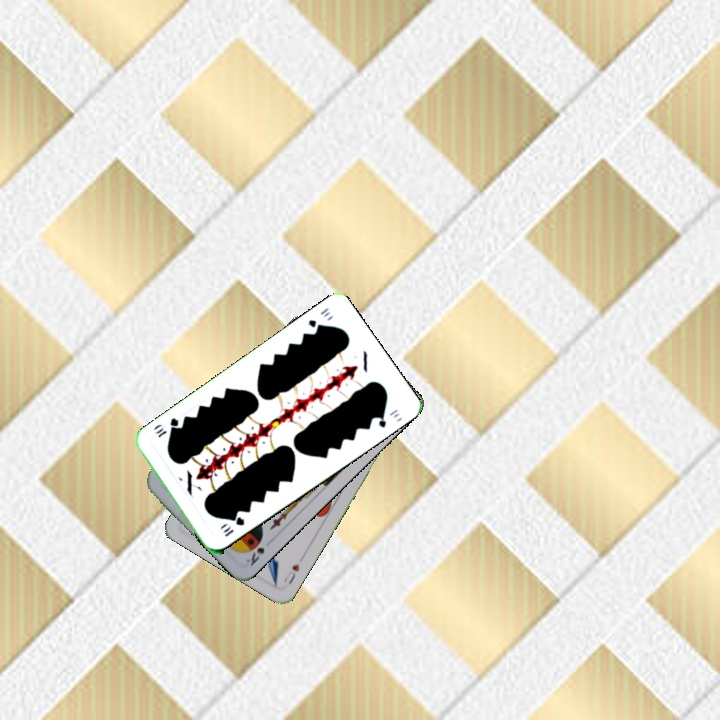G10: (304, 303, 333, 333), (220, 512, 247, 539)
HU: (280, 560, 302, 587)
SK: (242, 543, 267, 568)
